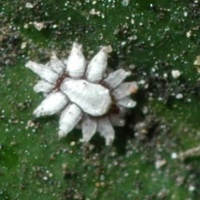insect: (25, 42, 137, 144)
